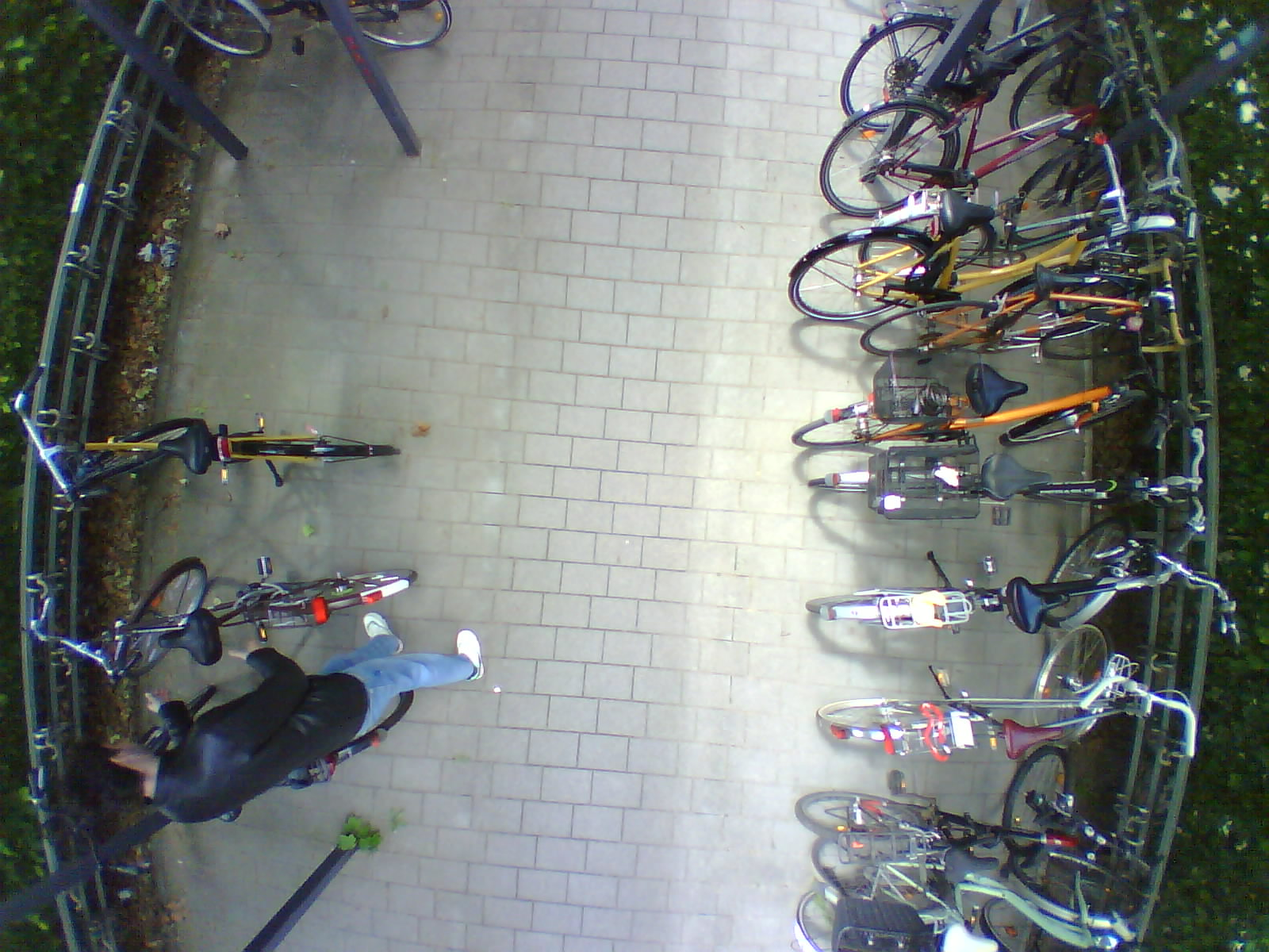bicylce: (62, 559, 417, 680), (778, 221, 1165, 329), (811, 114, 1131, 244), (802, 435, 1206, 527), (810, 678, 1161, 775), (797, 568, 1184, 650), (831, 28, 1097, 147), (806, 862, 1150, 947), (870, 187, 1180, 278), (792, 373, 1147, 451), (34, 422, 401, 483), (796, 772, 1115, 842), (854, 299, 1173, 367)
saddle: (982, 445, 1052, 504), (153, 615, 216, 672), (1004, 580, 1067, 635), (153, 422, 212, 478), (997, 720, 1063, 763), (966, 367, 1017, 417), (962, 46, 1018, 86), (941, 850, 997, 890), (935, 195, 988, 236), (1034, 262, 1086, 296), (940, 925, 1000, 952)
